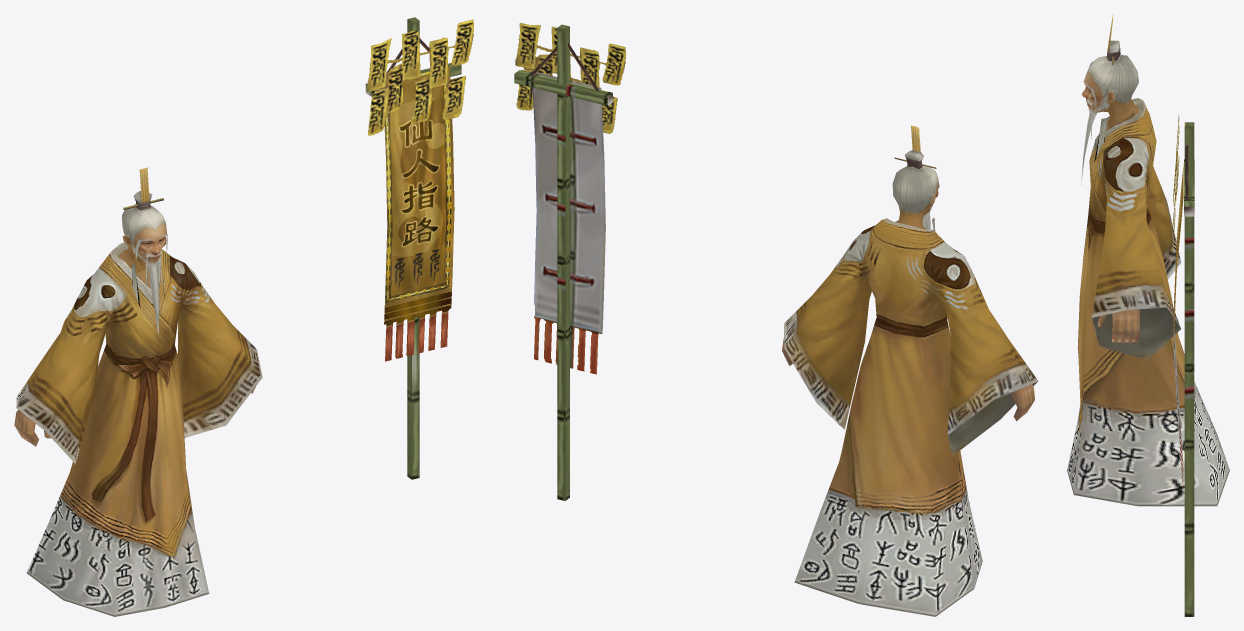
The picture shows the model from 3 angles, left to right: view 1: azimuth 30°, elevation 25°; view 2: azimuth 150°, elevation 25°; view 3: azimuth 270°, elevation 25°; orthographic projection. The views are drawn at different scales.
Visible parts, largest first — view 1: ElementClient-1bbef4e0.obj_0, ElementClient-1bbfac30.obj_1, Object_8; view 2: ElementClient-1bbef4e0.obj_0, ElementClient-1bbfac30.obj_1, Object_8; view 3: ElementClient-1bbef4e0.obj_0, ElementClient-1bbfac30.obj_1, Object_8, Object_10.
Part boxes in pixels (<box>): ElementClient-1bbef4e0.obj_0: <box>16,204,262,616</box>; ElementClient-1bbfac30.obj_1: <box>365,17,473,479</box>; Object_8: <box>14,167,255,446</box>; ElementClient-1bbef4e0.obj_0: <box>784,165,1038,616</box>; ElementClient-1bbfac30.obj_1: <box>514,23,625,500</box>; Object_8: <box>782,125,1034,421</box>; ElementClient-1bbef4e0.obj_0: <box>1067,55,1229,506</box>; ElementClient-1bbfac30.obj_1: <box>1172,115,1194,616</box>; Object_8: <box>1097,14,1139,342</box>; Object_10: <box>1094,118,1108,161</box>.
Size of the model in its own units: 2.36 by 2.2 by 0.6424.
Materials: 3 (3 with a texture image).
